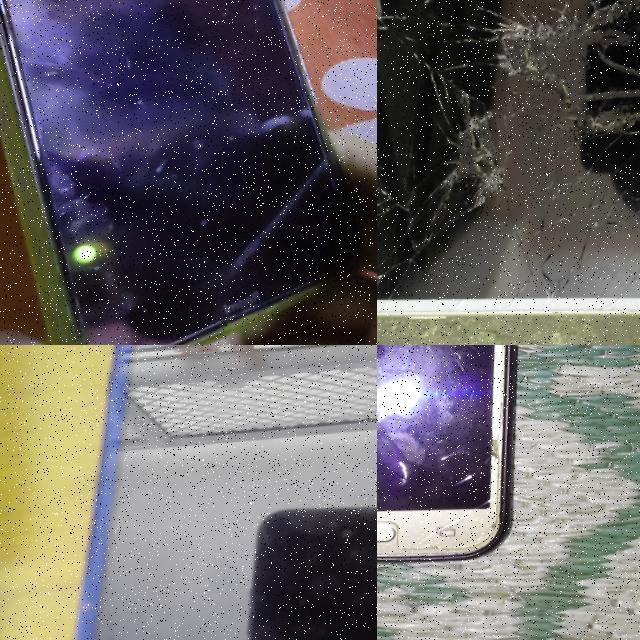screen crack: (377, 0, 640, 310), (200, 146, 377, 322), (402, 433, 540, 554)
